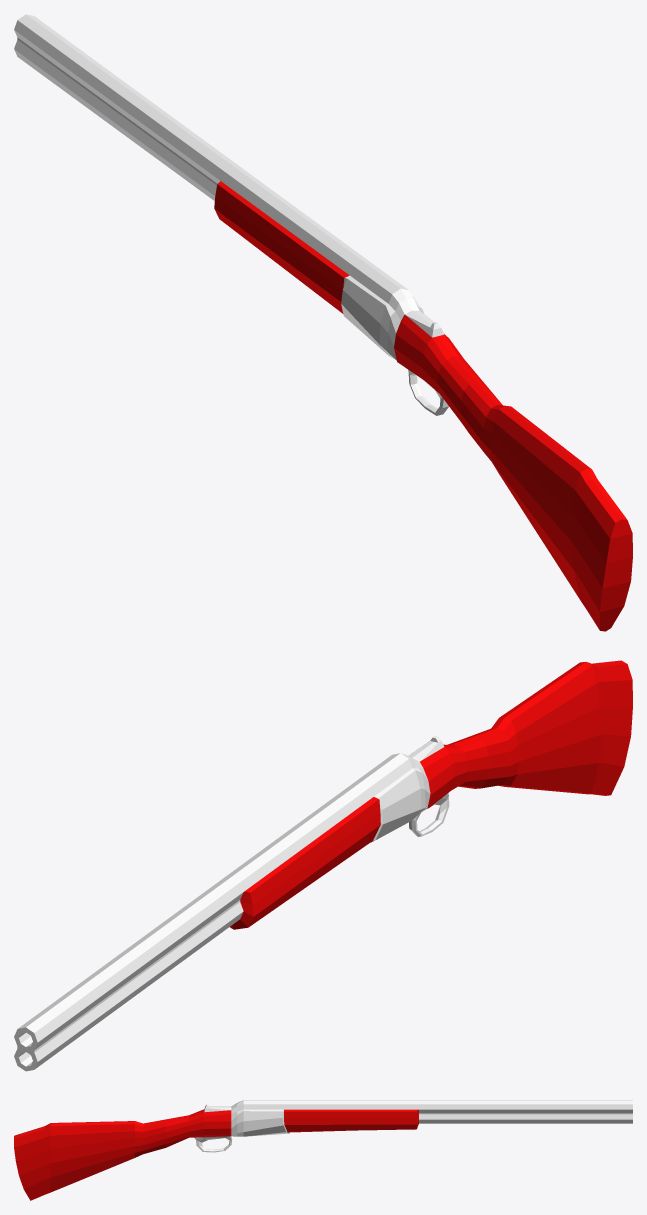
3 views of the same model, one above another, from view 1: azimuth 30°, elevation 25°; view 2: azimuth 150°, elevation 25°; view 3: azimuth 270°, elevation 25° (orthographic). The views are drawn at different scales.
Parts seen in each view (by area): view 1: MC-6; view 2: MC-6; view 3: MC-6.
Boxes of the visible parts, bbox=[...] form: MC-6: bbox=[14, 14, 632, 631]; MC-6: bbox=[14, 660, 632, 1071]; MC-6: bbox=[14, 1100, 632, 1200].
Size of the model in its own units: 0.0411 by 0.1807 by 1.01.
